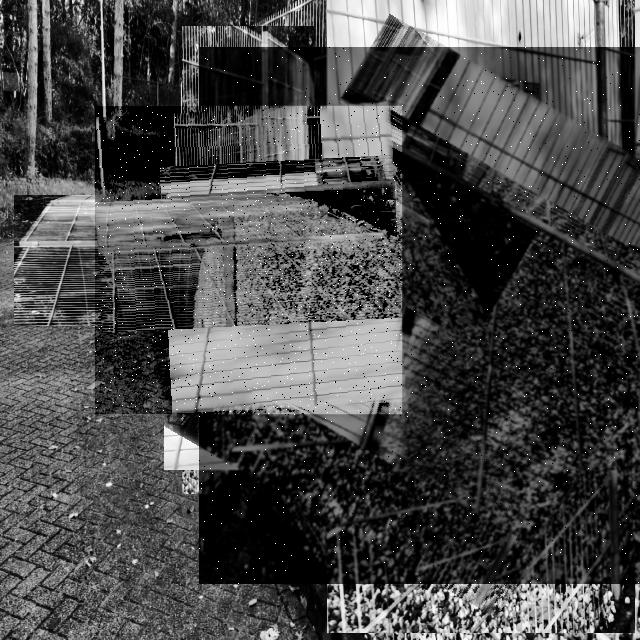fences: (199, 47, 640, 584), (95, 106, 402, 414)
